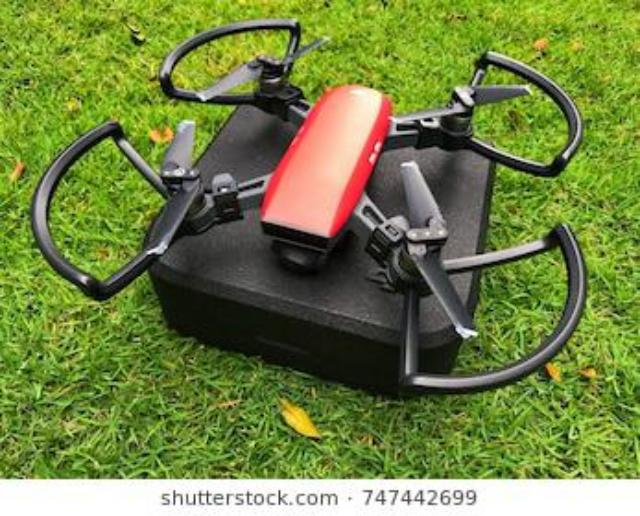drone: (0, 7, 640, 412)
